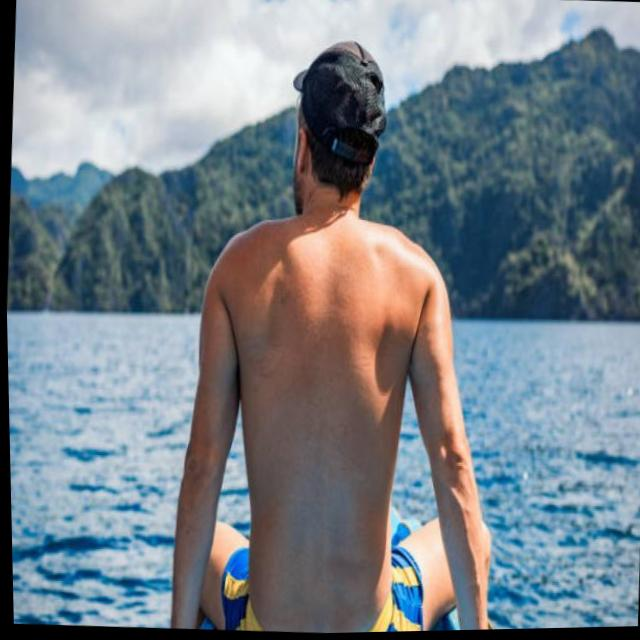no helmet: (273, 35, 402, 229)
